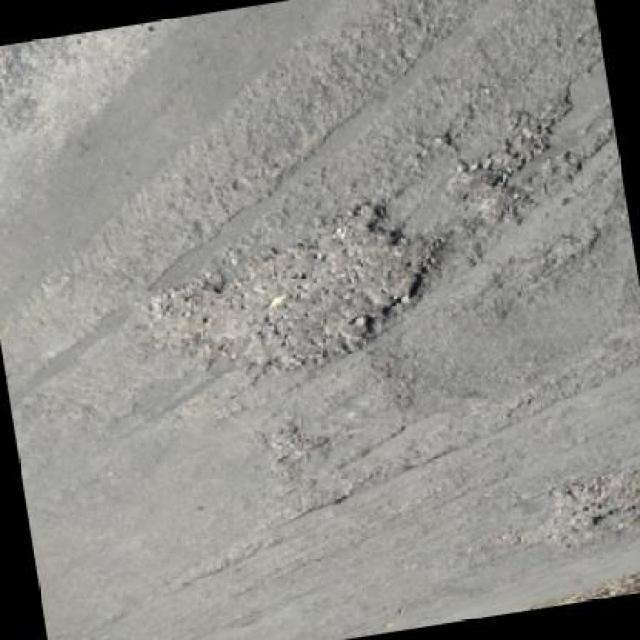pothole: (116, 185, 469, 410), (483, 462, 639, 569), (433, 155, 536, 236), (255, 419, 336, 473)
